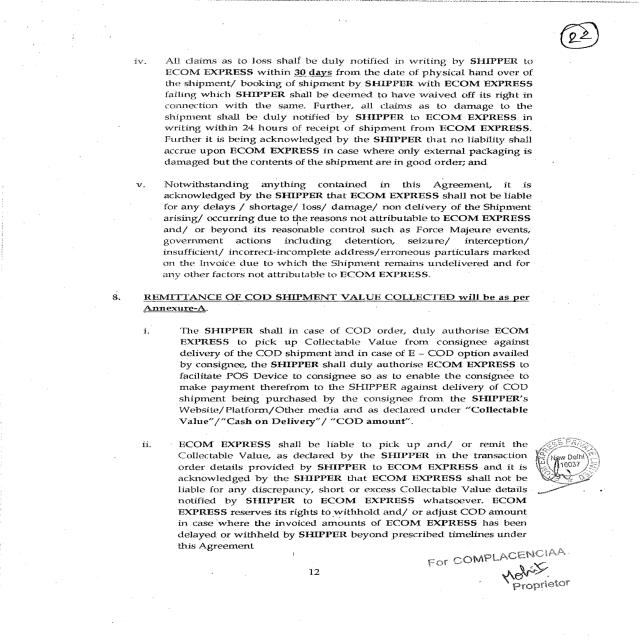page-number: (426, 0, 638, 56)
